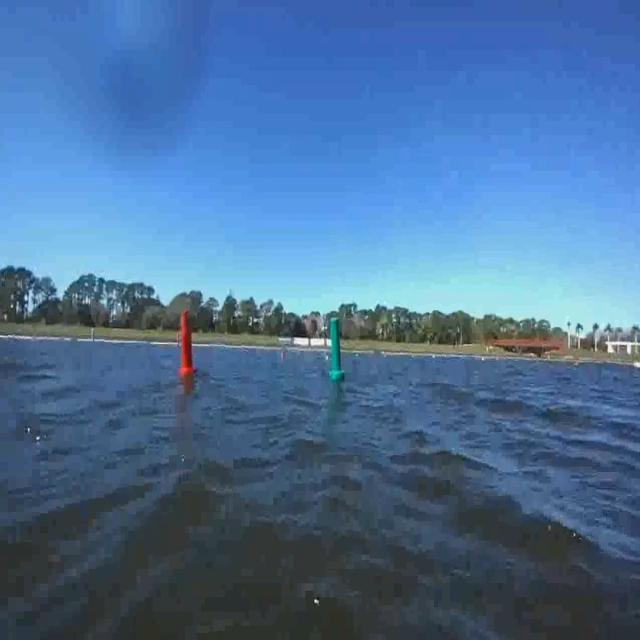green-column-buoy: (327, 318, 345, 381)
red-column-buoy: (178, 311, 196, 377)
